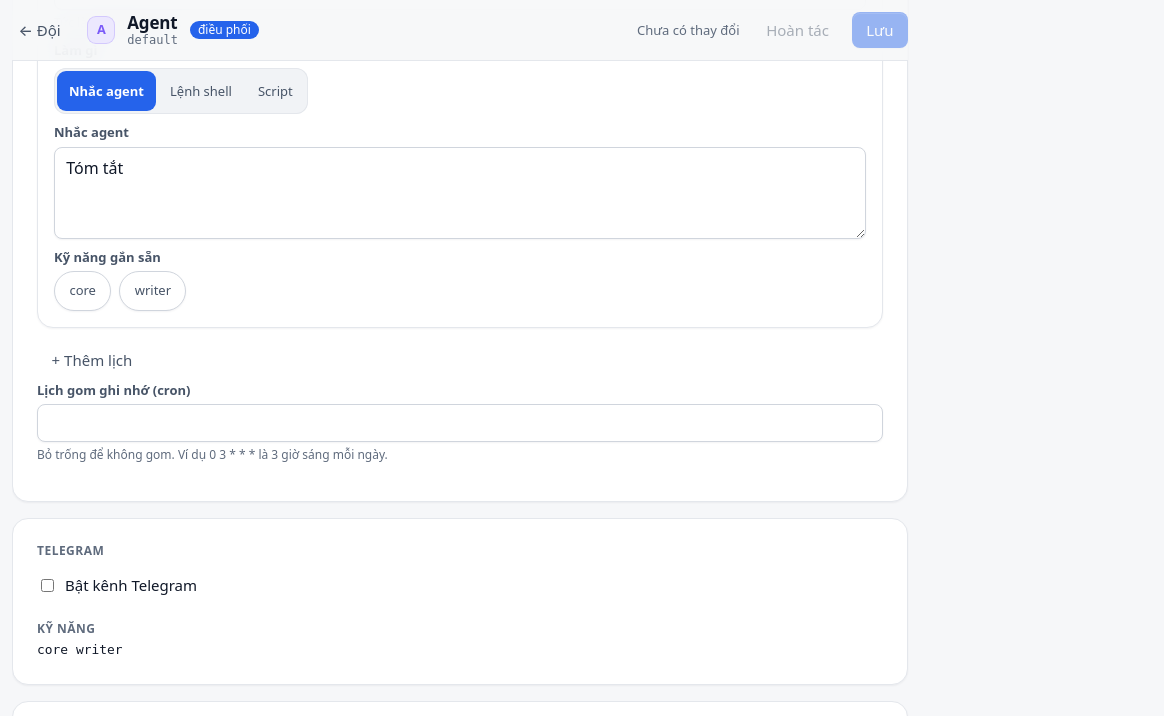
Test: a schedule of another kind and its id › lets a prompt go without one, numbered by the server as before
(page scrolled)
Click the button "+ Thêm lịch" at {"x": 92, "y": 360}, box [37,340,147,380]
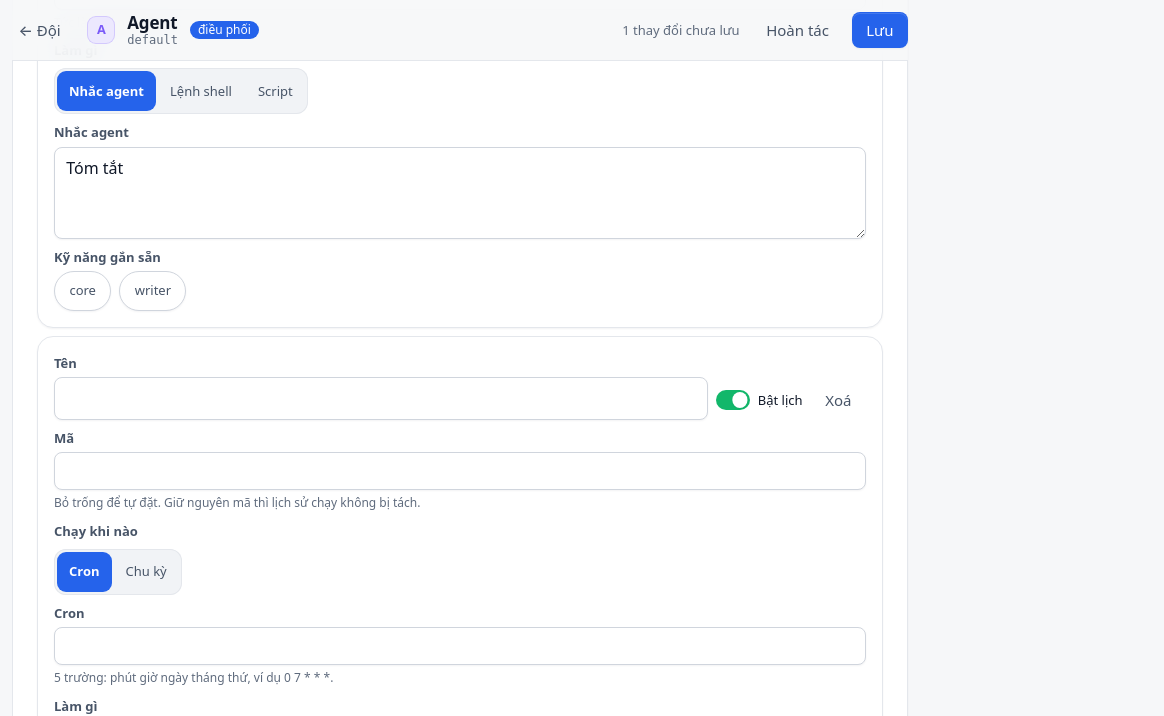
Type "Việc mới" into the field labelled "Tên" at {"x": 381, "y": 399}, box [54,377,708,420]
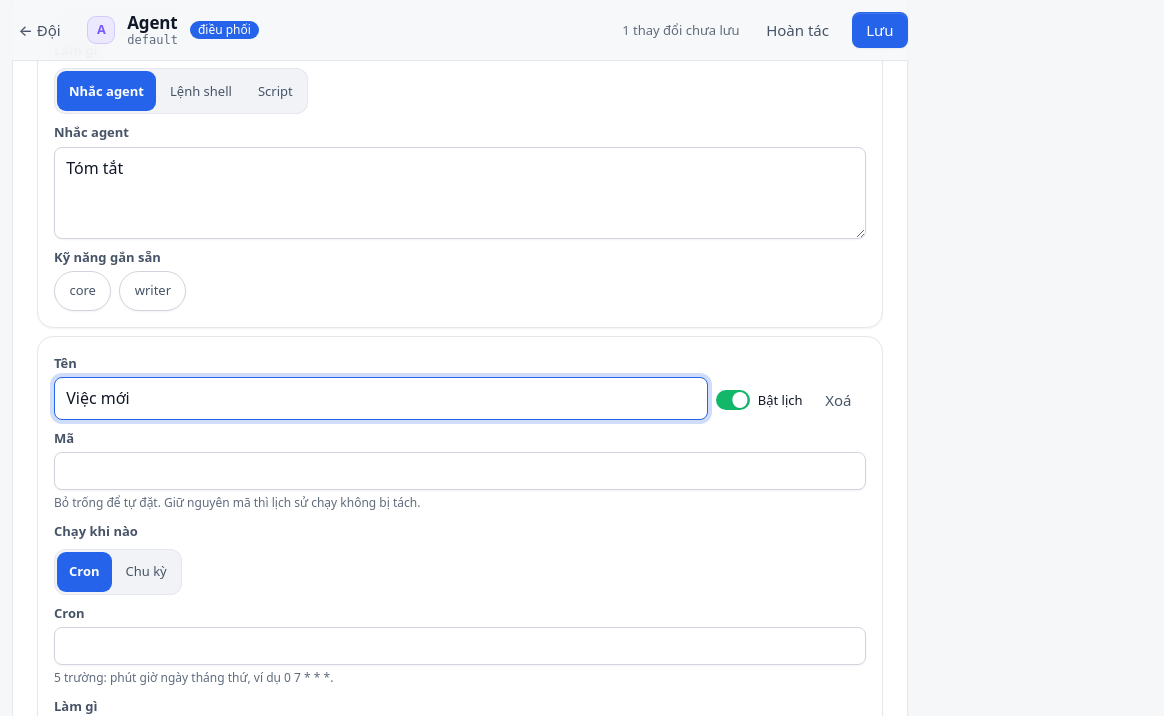
Type "40 6 * * *" into the field labelled "Cron" at {"x": 460, "y": 646}, box [54,627,866,665]
(page scrolled)
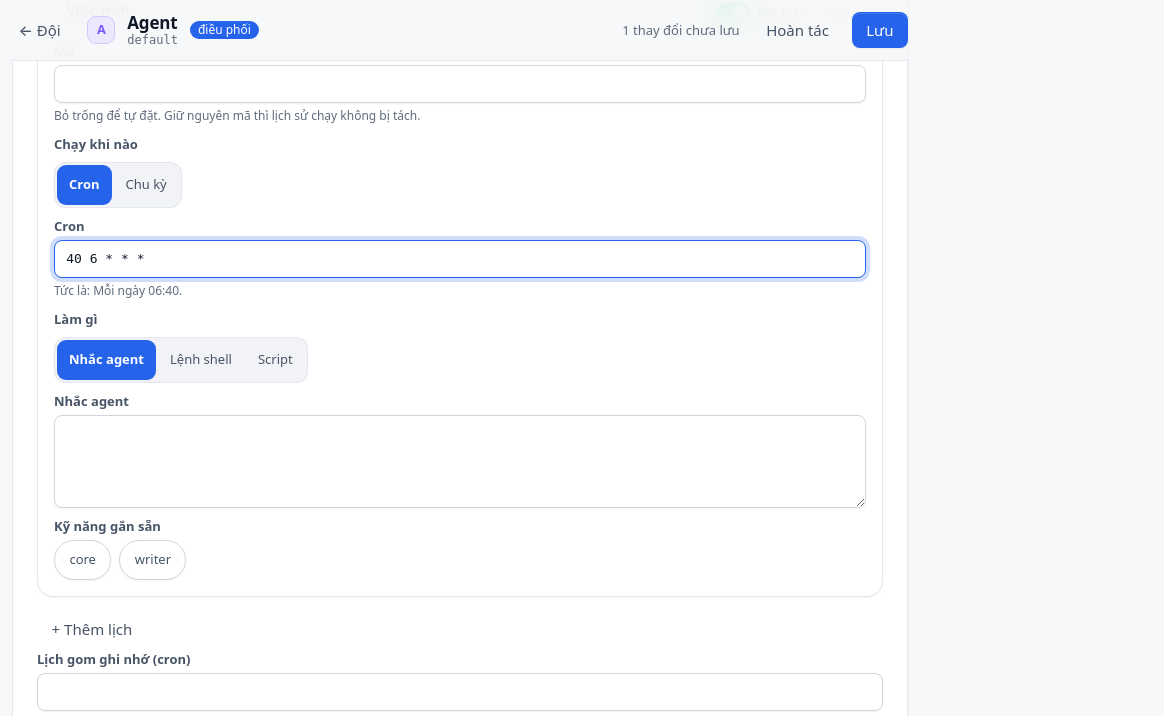
Click the button "Nhắc agent" at {"x": 106, "y": 360}, box [57,340,156,380]
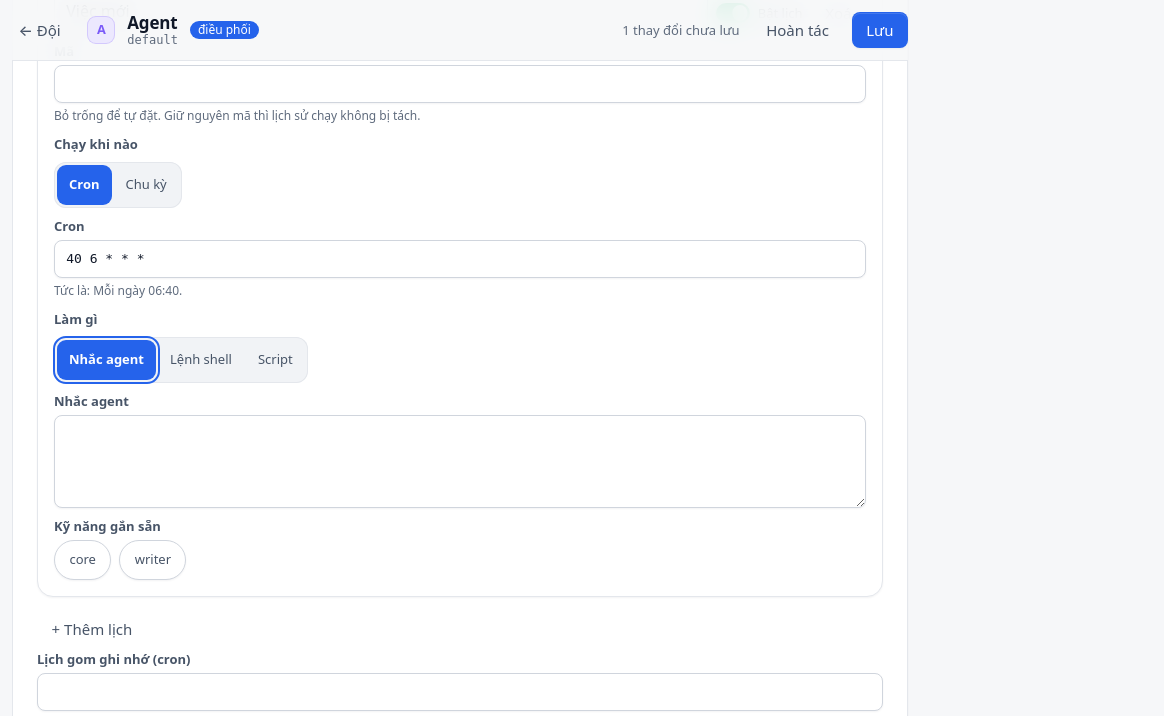
Type "Chào buổi sáng" into the text box labelled "Nhắc agent" at {"x": 460, "y": 461}, box [54,415,866,508]
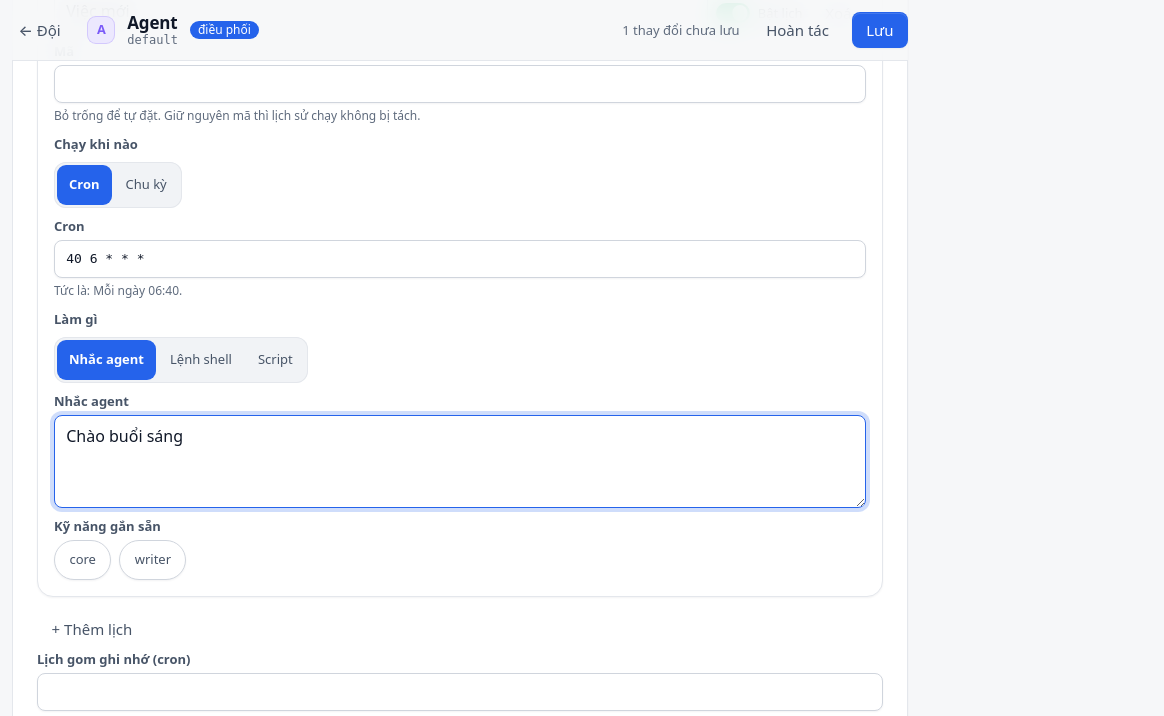
Click the button "Lưu" at {"x": 880, "y": 30}, box [852,12,908,48]
(page scrolled)
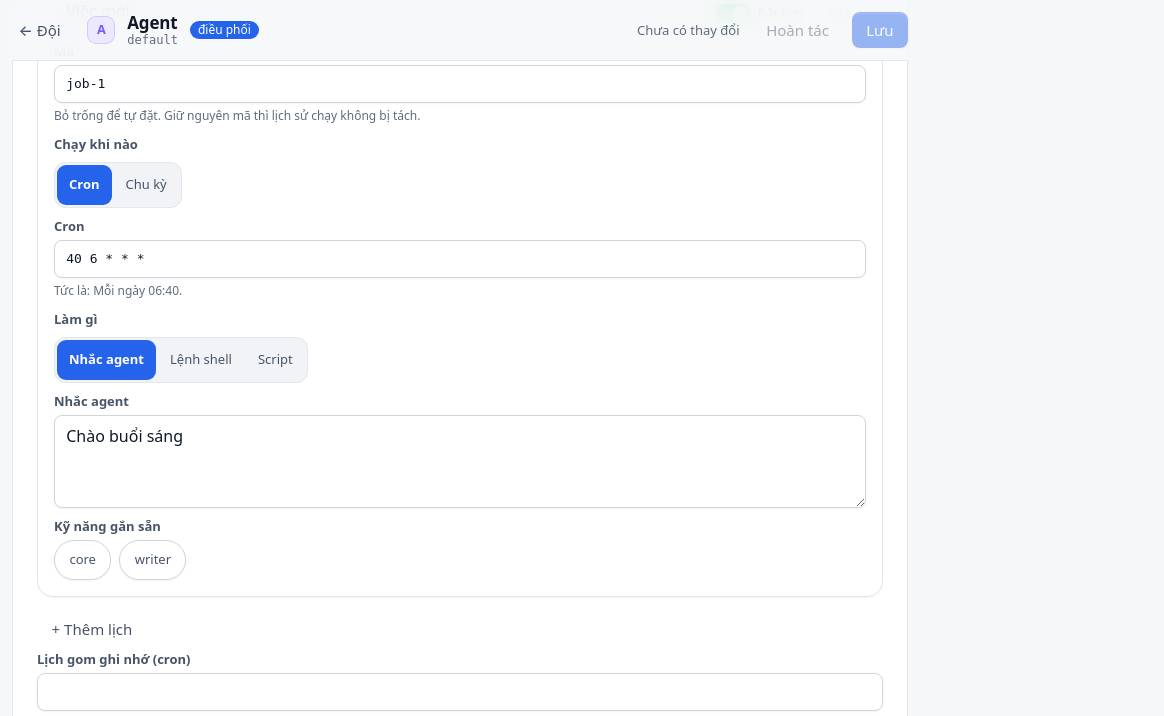
Expected: the button "Lưu" is disabled, [852,12,908,48]
